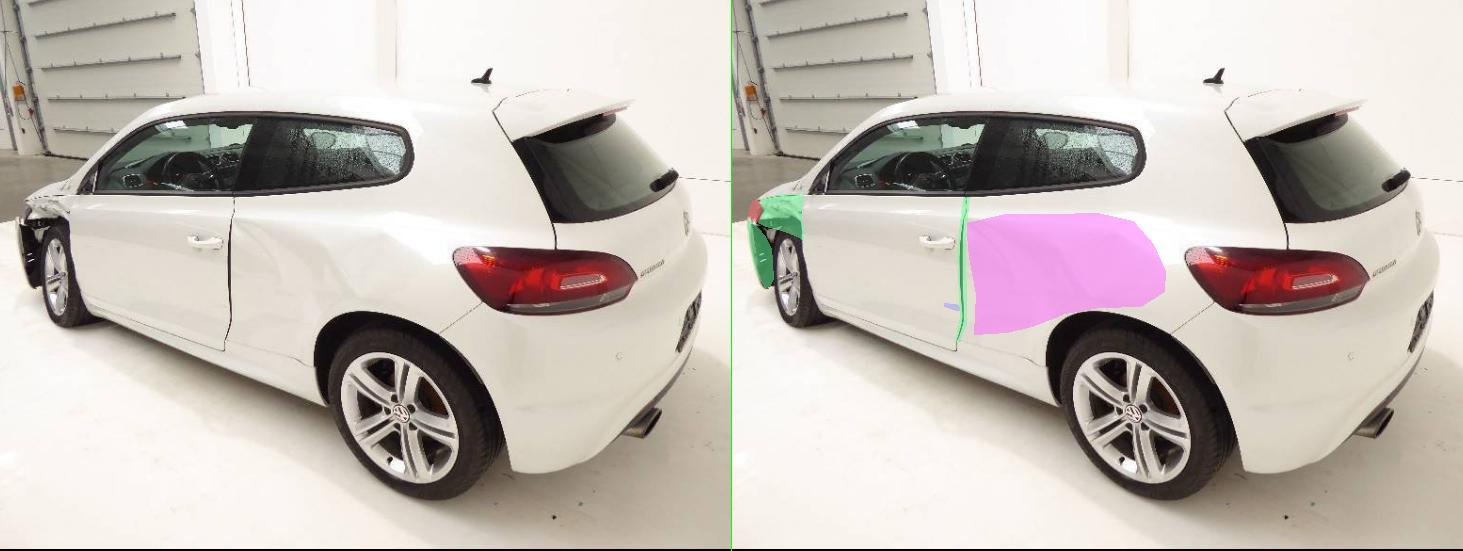Broken part: (52, 194, 142, 240), (446, 197, 474, 342), (32, 217, 82, 287)
Dent: (468, 213, 867, 334)
Missing part: (32, 200, 60, 222)
Scratch: (424, 303, 456, 310)
